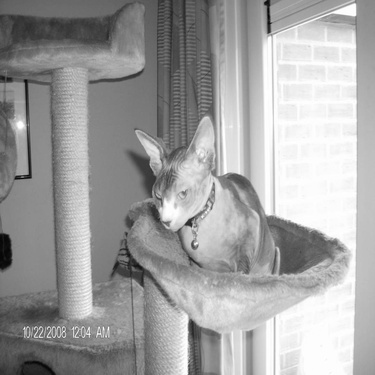cat: (131, 109, 281, 281)
